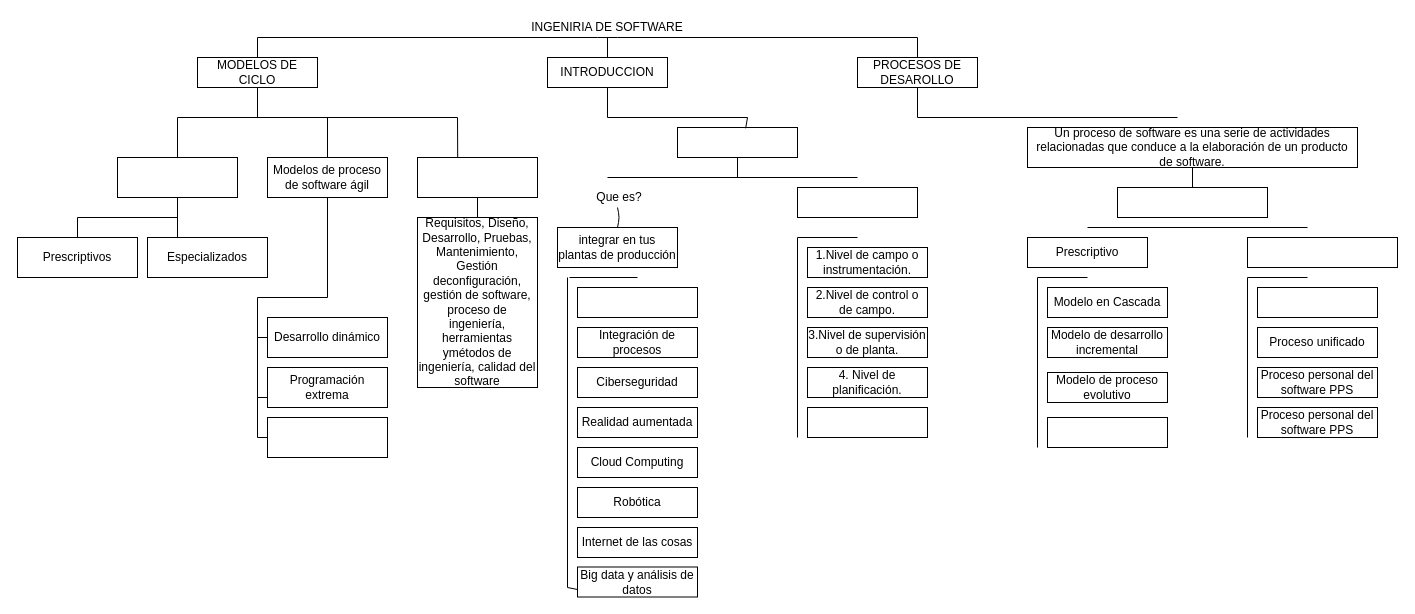
Image size: 1415x614. Some labels were removed from this diagram. The shapes that lost their labels are listed below. From the top down, each one's centre as x and y in pixels, then its label:
At [737,142]: "Industria 4.0".
At [177,177]: "Modelos de proceso de software tradicionales".
At [477,177]: "SweBok 3.0 (10 Áreas del conocimiento)".
At [857,202]: "Automatización industrial".
At [1192,202]: "Tipos de Modelos".
At [1322,252]: "De proceso especializado".
At [637,302]: "Fabricación aditiva o impresión 3D".
At [1317,302]: "Basado en componentes".
At [327,437]: "Scrum".
At [867,422]: "5.Nivel de gestión o de fábrica.".
At [1107,432]: "Modelo concurrentes".
